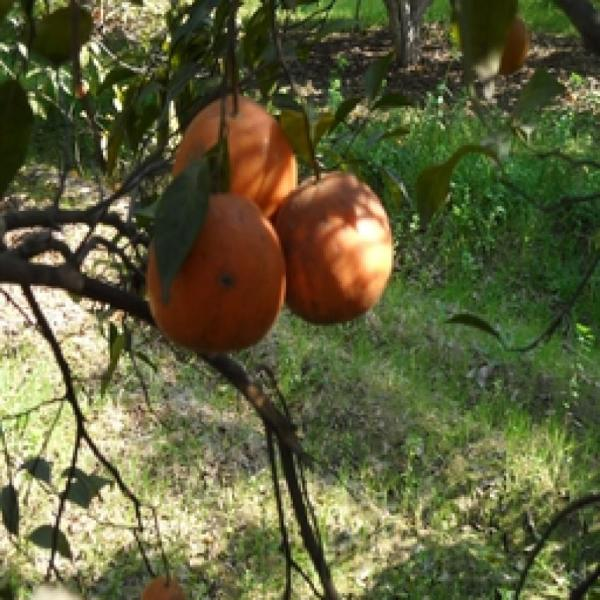Canker: (142, 191, 289, 355), (266, 171, 394, 324)
Sana: (163, 92, 298, 205)
